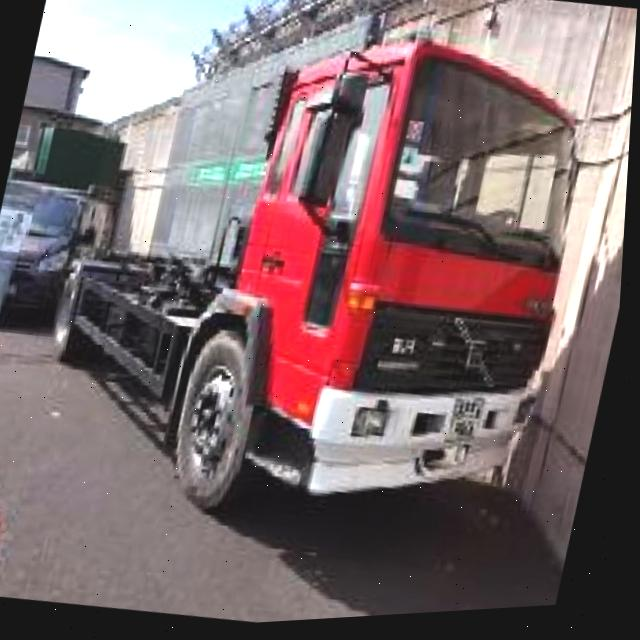emergency: (17, 0, 621, 572)
